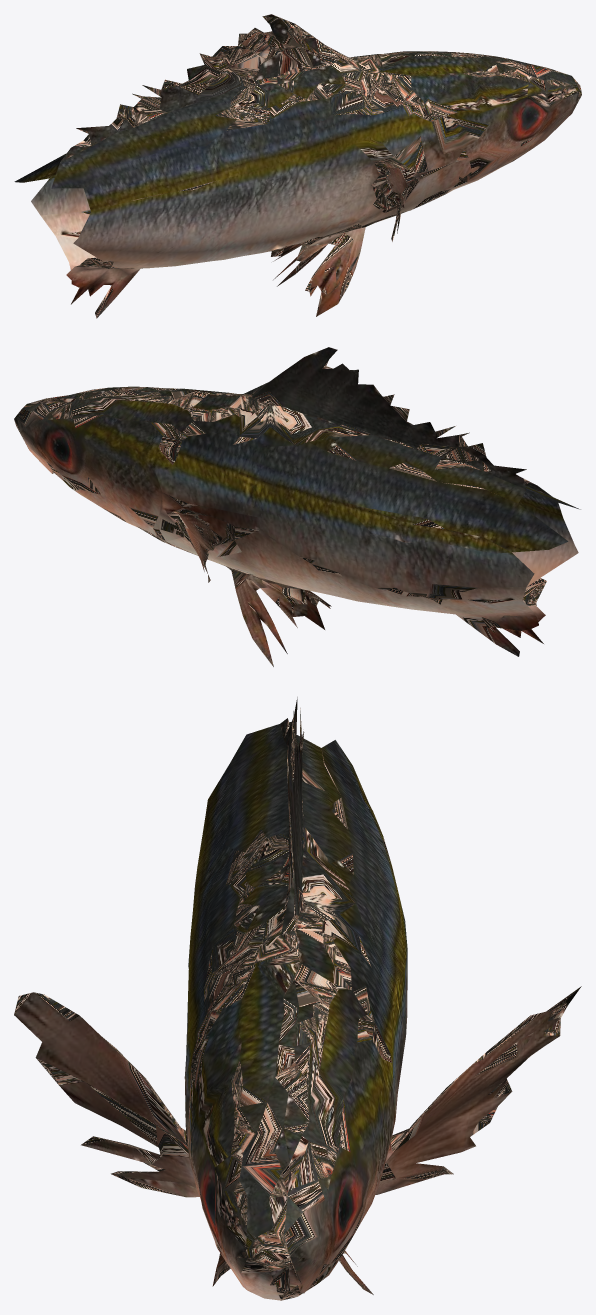
The model's file is fusilier_a.glb.
The picture shows the model from 3 angles, top to bottom: view 1: azimuth 30°, elevation 25°; view 2: azimuth 150°, elevation 25°; view 3: azimuth 270°, elevation 25°; orthographic projection. The views are drawn at different scales.
Visible parts, largest first — view 1: fusilier_a; view 2: fusilier_a; view 3: fusilier_a.
Boxes of the visible parts, x1,y1,x2,y2 form: fusilier_a: [14, 14, 581, 318]; fusilier_a: [14, 347, 580, 666]; fusilier_a: [14, 697, 581, 1300].
Size of the model in its own units: 0.2553 by 0.1323 by 0.1288.
1 material, 1 textured.
